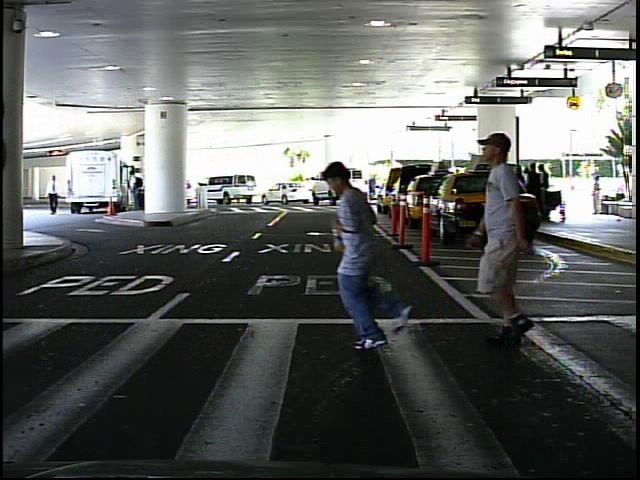person: (465, 122, 569, 355), (330, 154, 448, 354), (588, 172, 607, 218), (45, 172, 64, 217), (366, 172, 382, 202)
